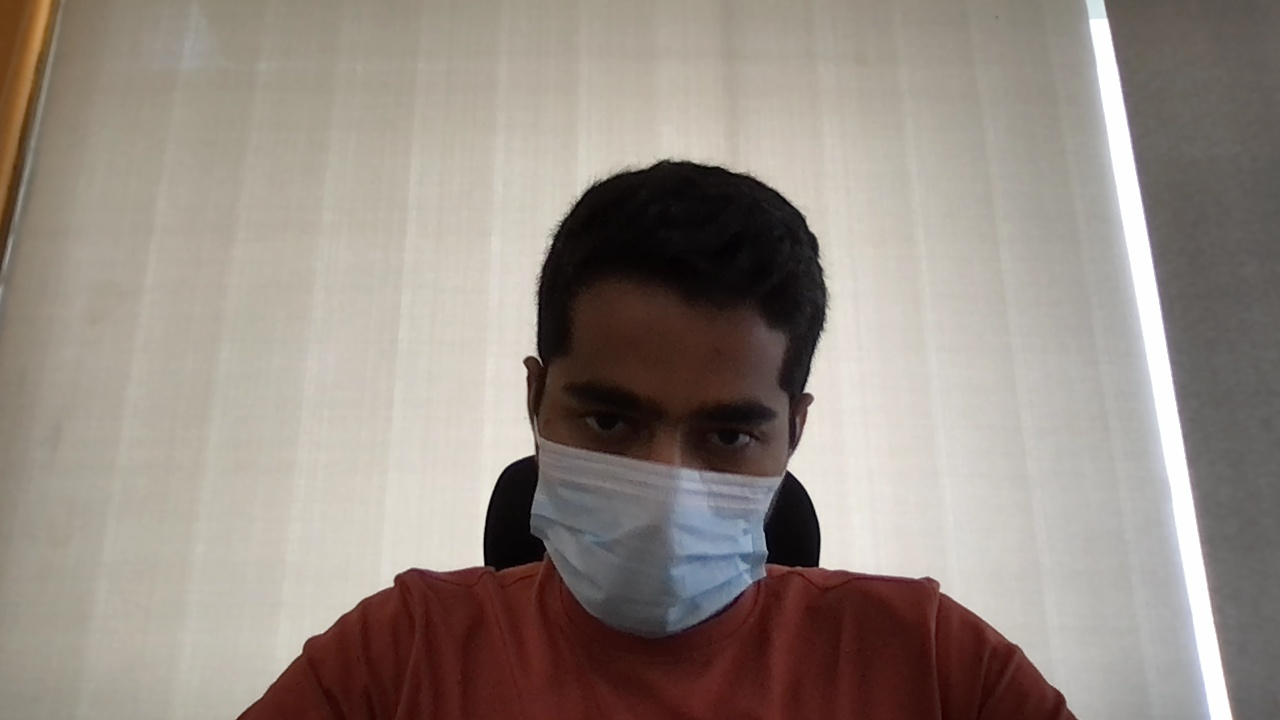mask: (531, 434, 787, 642)
